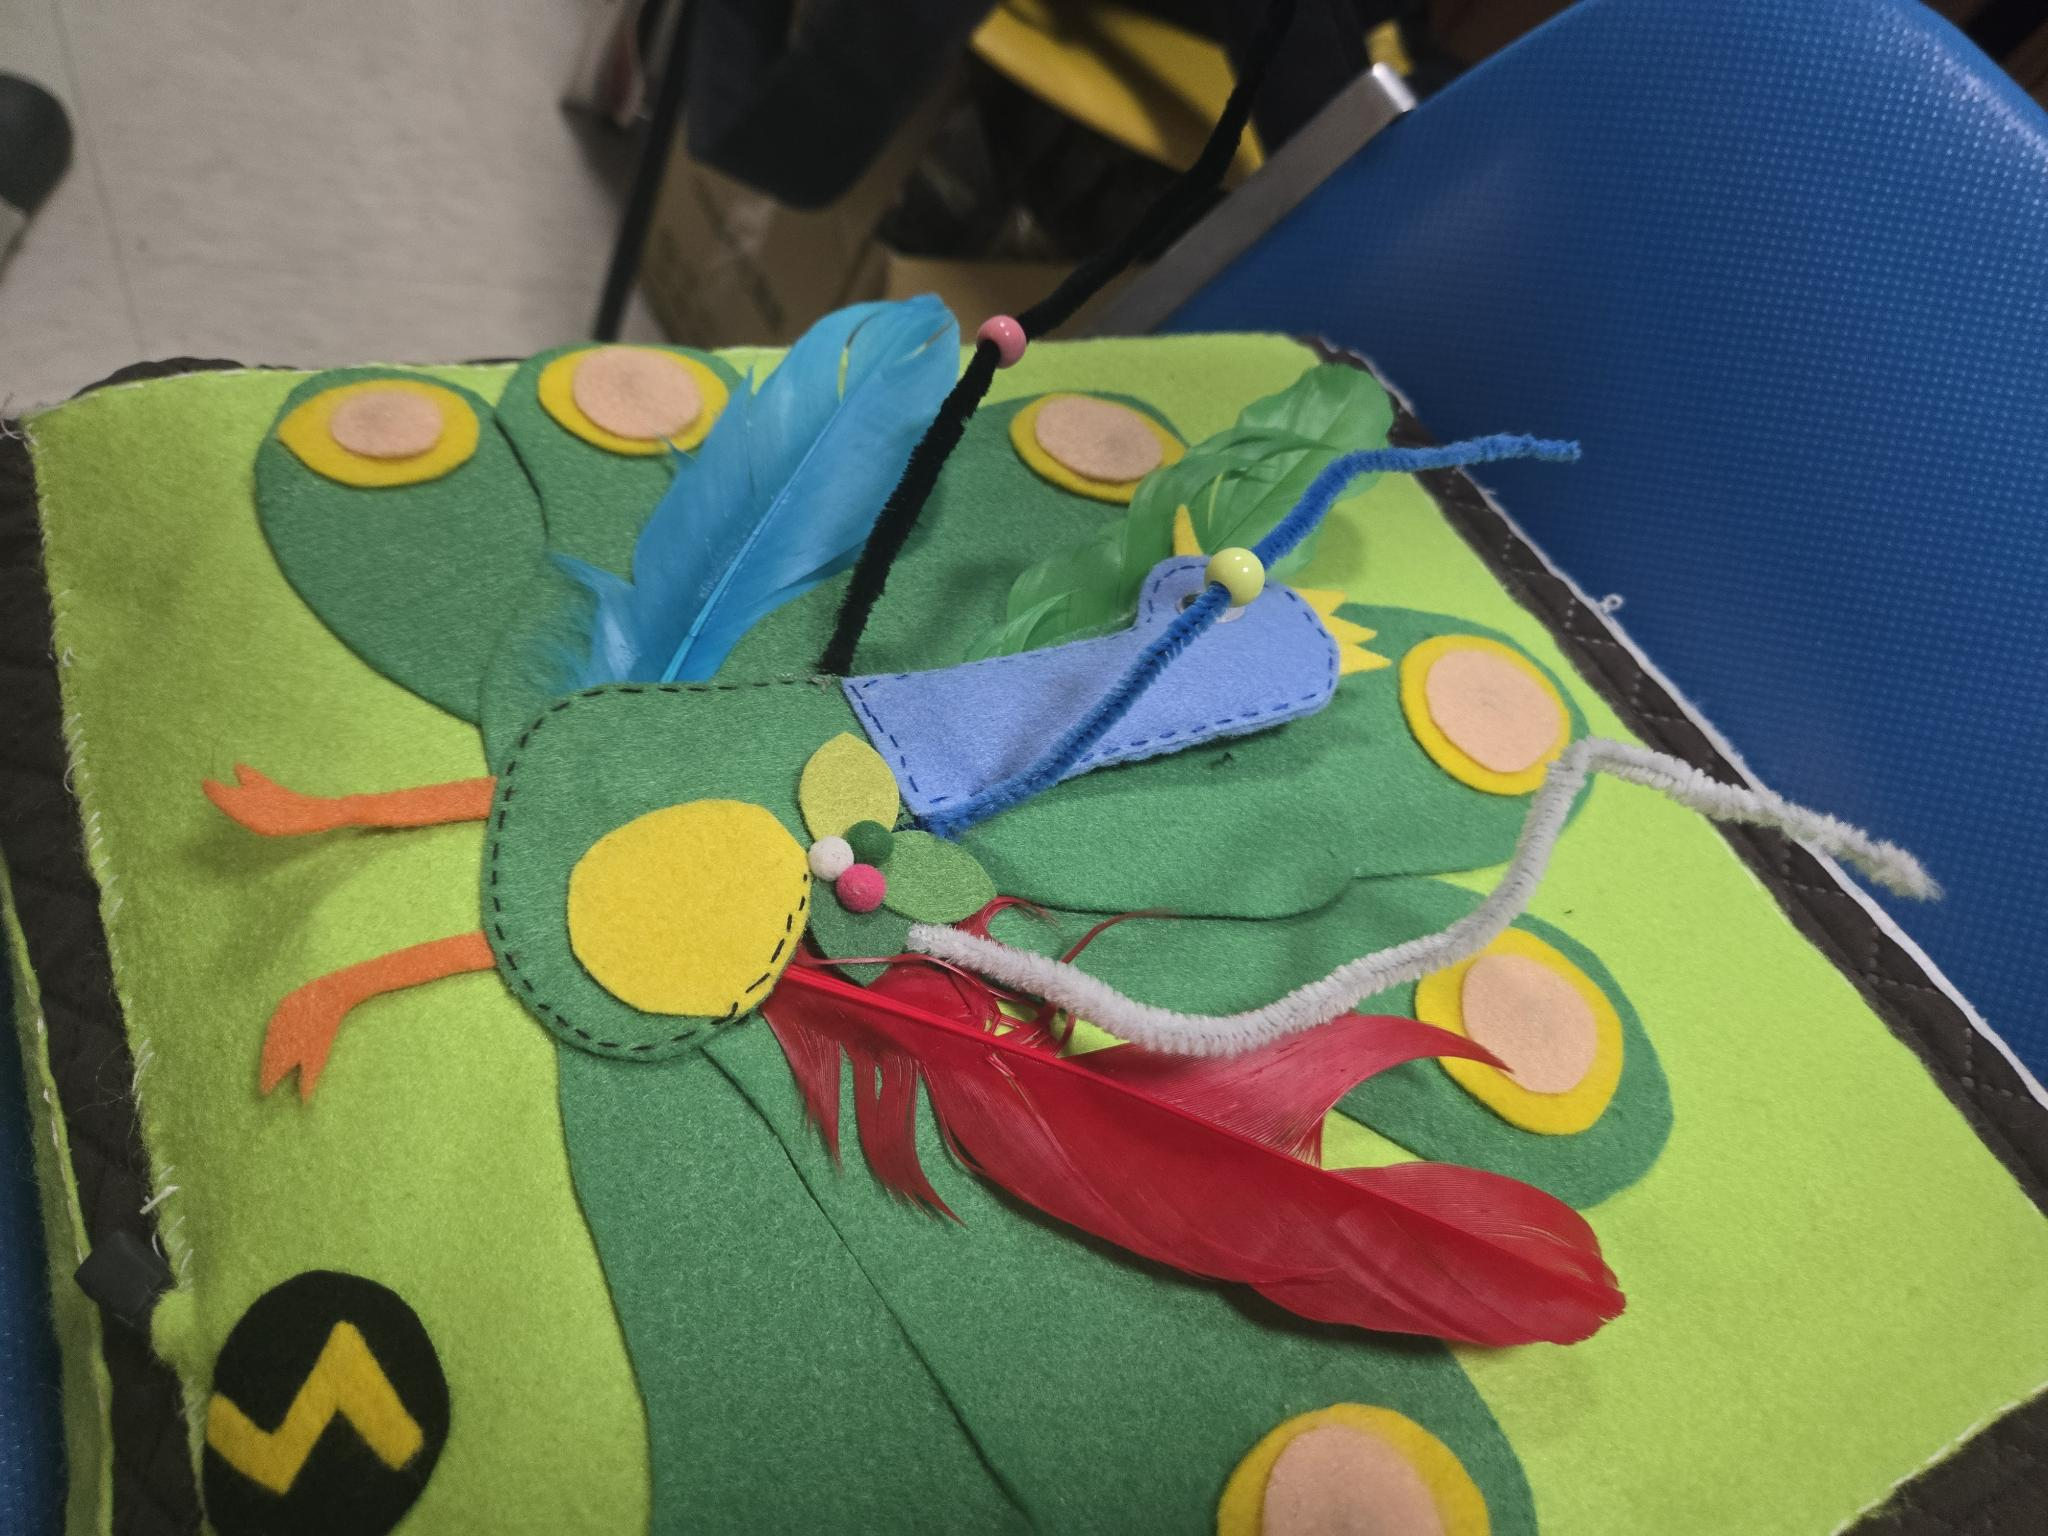bead: (1198, 530, 1274, 616), (970, 294, 1040, 374)
